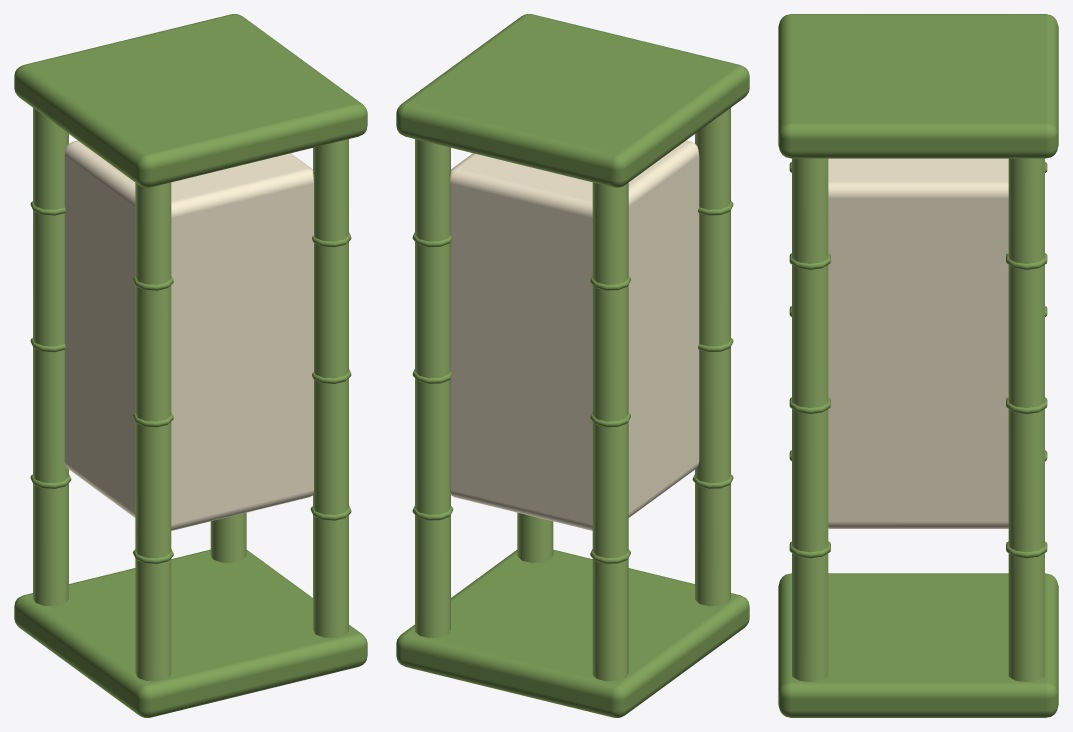
File: bamboo_floor_lantern.glb
3 renders of one model, left to right at view 1: azimuth 30°, elevation 25°; view 2: azimuth 150°, elevation 25°; view 3: azimuth 270°, elevation 25°, orthographic. The views are drawn at different scales.
Visible parts, largest first — view 1: bamboo_floor_lantern_mesh; view 2: bamboo_floor_lantern_mesh; view 3: bamboo_floor_lantern_mesh.
Boxes of the visible parts, left/top/right/bottom form: bamboo_floor_lantern_mesh: left=14, top=14, right=367, bottom=717; bamboo_floor_lantern_mesh: left=396, top=14, right=749, bottom=717; bamboo_floor_lantern_mesh: left=778, top=14, right=1058, bottom=717.
Bounding box in the file's own units: 0.44 × 1.03 × 0.44.
